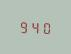four: (30, 19, 40, 34)
nine: (18, 19, 28, 33)
zero: (41, 20, 51, 34)
